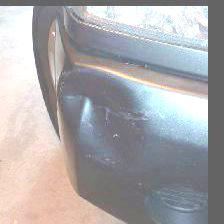bumper_dent: (36, 48, 160, 164)
